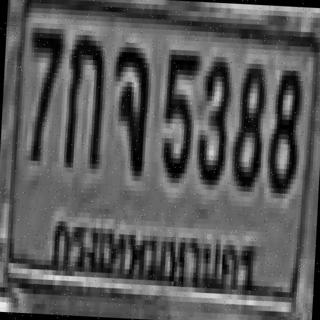A01: (62, 30, 104, 164)
A08: (108, 42, 148, 171)
N03: (194, 51, 231, 181)
N05: (159, 45, 197, 179)
N07: (24, 22, 61, 157)
N08: (228, 58, 266, 188), (266, 65, 300, 189)
P04: (42, 207, 261, 309)
